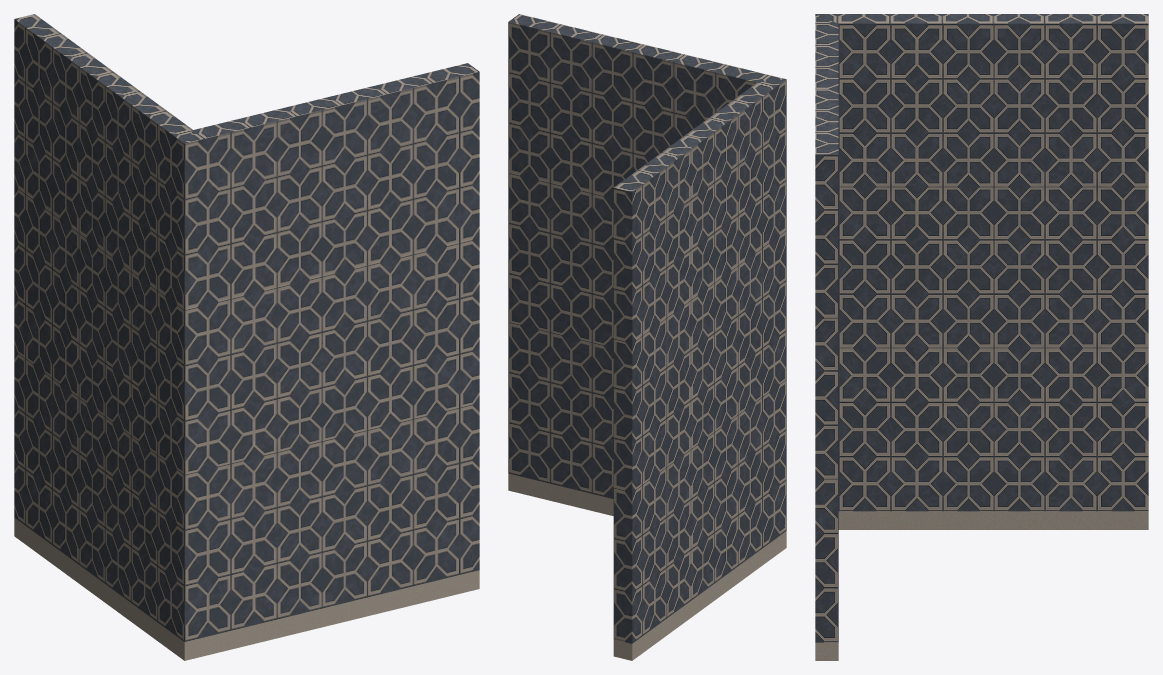
Rendered from ARC0210013.fbx.
3 renders of one model, left to right at view 1: azimuth 30°, elevation 25°; view 2: azimuth 150°, elevation 25°; view 3: azimuth 270°, elevation 25°, orthographic. The views are drawn at different scales.
Parts seen in each view (by area): view 1: smARC0210013; view 2: smARC0210013; view 3: smARC0210013.
Part boxes in pixels (x1,y1,x2,y2): smARC0210013: [14, 14, 479, 660]; smARC0210013: [508, 14, 786, 660]; smARC0210013: [815, 14, 1148, 660].
Size of the model in its own units: 196 by 328 by 196.
Materials: 1 (1 with a texture image).
